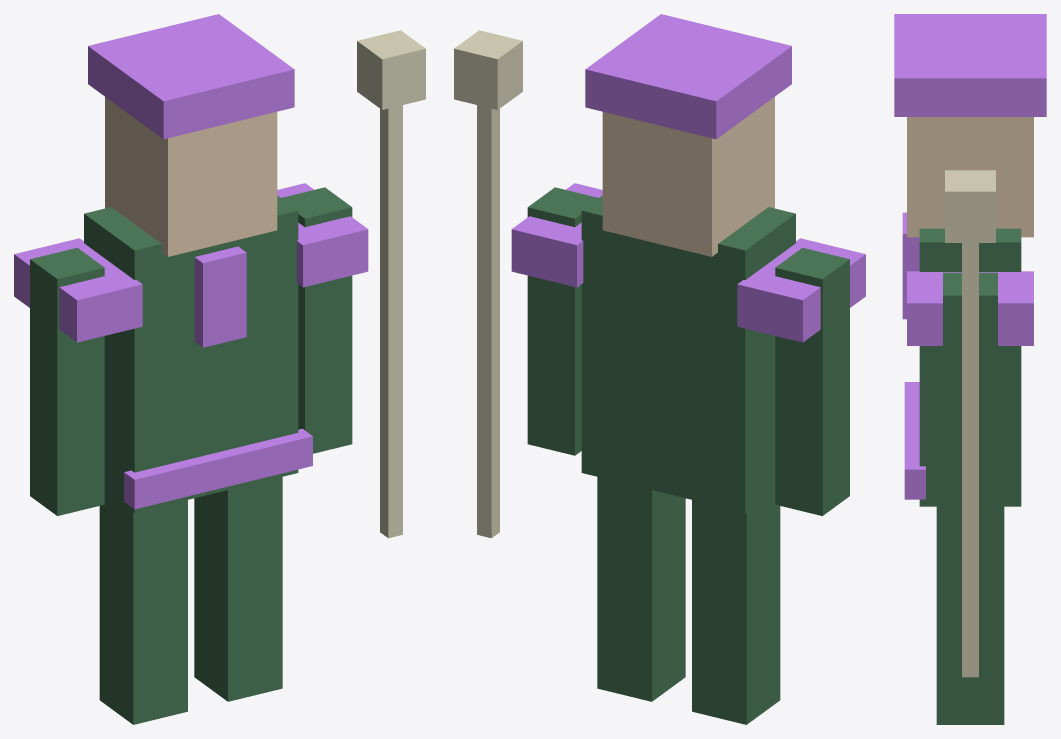
The model's file is 07_sable_gravesong_operator_from_ambush.glb.
The picture shows the model from 3 angles, left to right: view 1: azimuth 30°, elevation 25°; view 2: azimuth 150°, elevation 25°; view 3: azimuth 270°, elevation 25°; orthographic projection.
Visible parts, largest first — view 1: Sable Gravesong, Operator from Ambush; view 2: Sable Gravesong, Operator from Ambush; view 3: Sable Gravesong, Operator from Ambush.
Boxes of the visible parts, x1,y1,x2,y2 form: Sable Gravesong, Operator from Ambush: (14, 14, 425, 724); Sable Gravesong, Operator from Ambush: (454, 14, 865, 724); Sable Gravesong, Operator from Ambush: (894, 14, 1046, 724).
Size of the model in its own units: 1.03 by 1.69 by 0.364.
